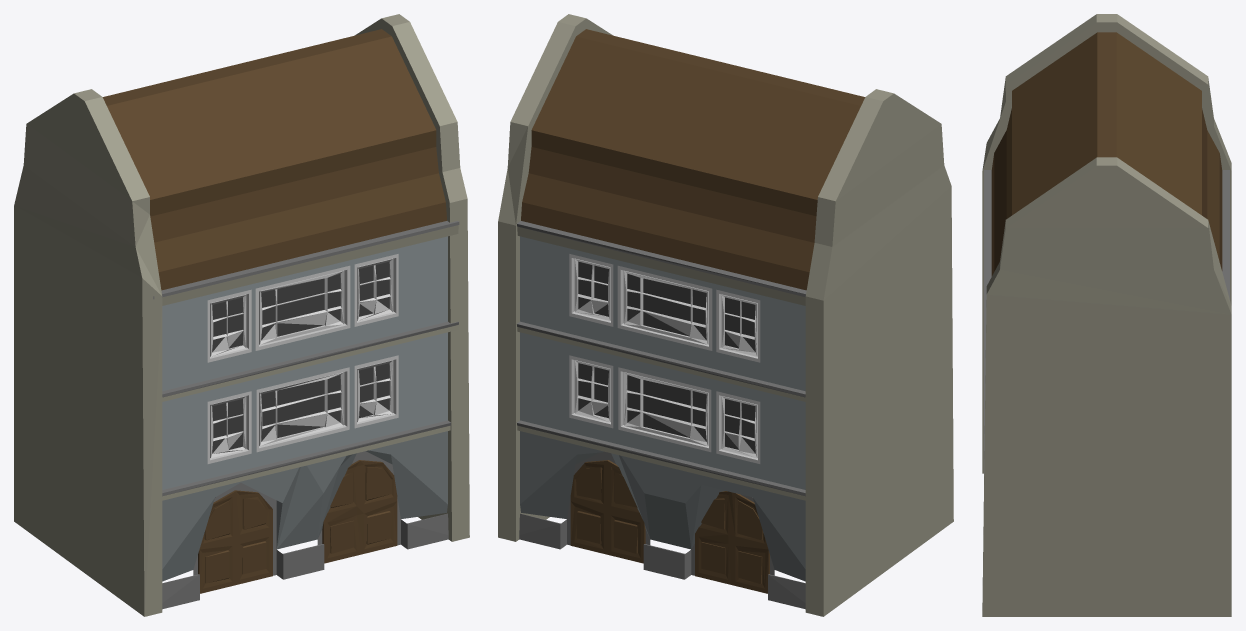
File: town2s.glb
The picture shows the model from 3 angles, left to right: view 1: azimuth 30°, elevation 25°; view 2: azimuth 150°, elevation 25°; view 3: azimuth 270°, elevation 25°; orthographic projection. The views are drawn at different scales.
Parts seen in each view (by area): view 1: Building2_Small; view 2: Building2_Small; view 3: Building2_Small.
Boxes of the visible parts, x1,y1,x2,y2 form: Building2_Small: (14,14,469,616); Building2_Small: (498,14,953,616); Building2_Small: (982,14,1231,616).
Size of the model in its own units: 3.58 by 4.97 by 2.49.
